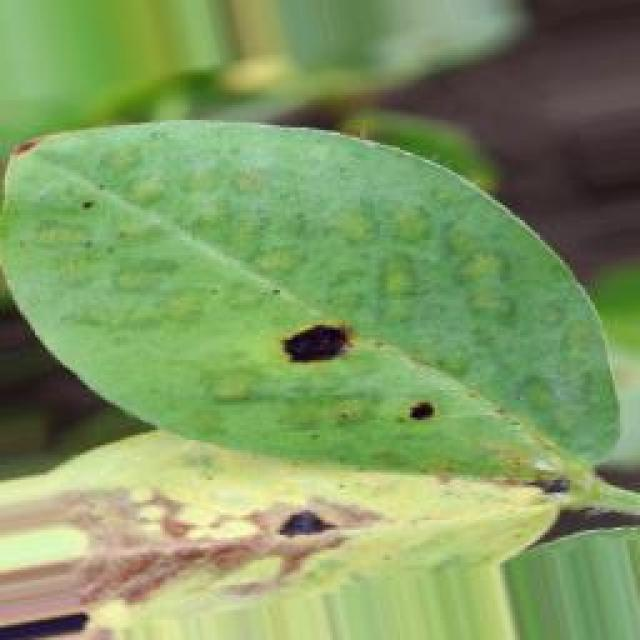Yellowish: (138, 469, 435, 589), (272, 305, 472, 464), (0, 91, 116, 254)
